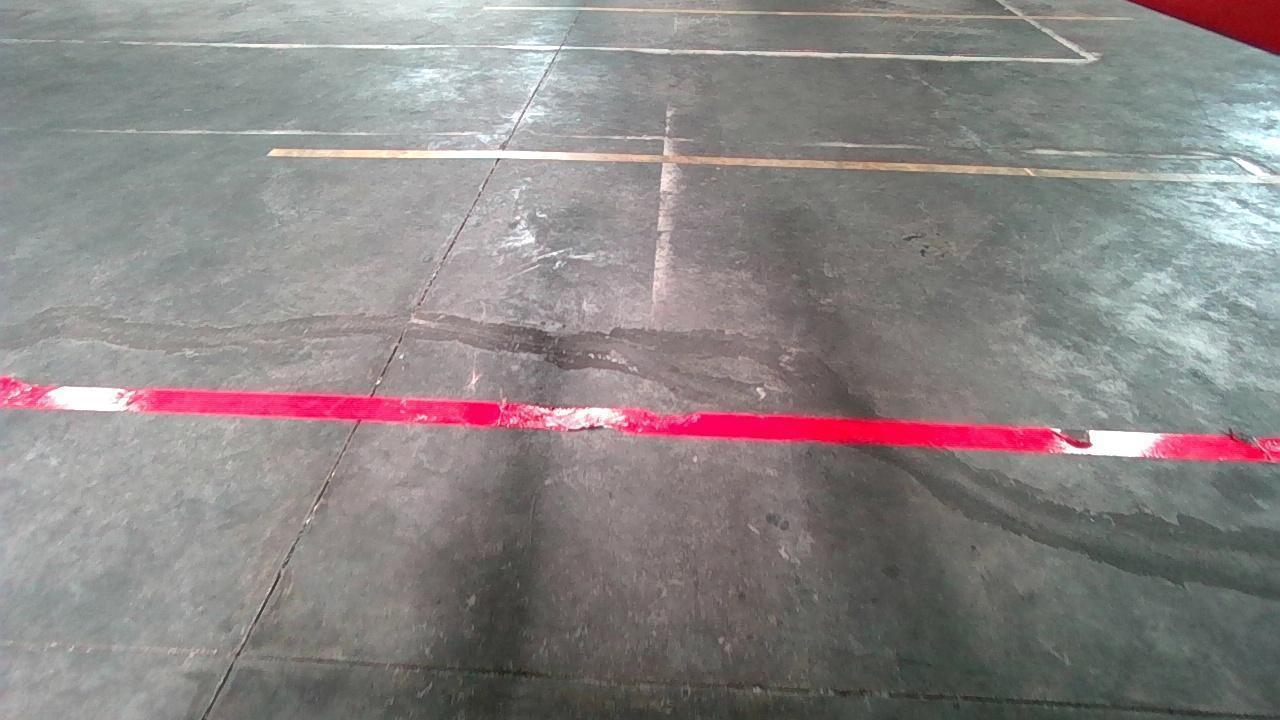yellow_line: (263, 146, 1266, 187)
